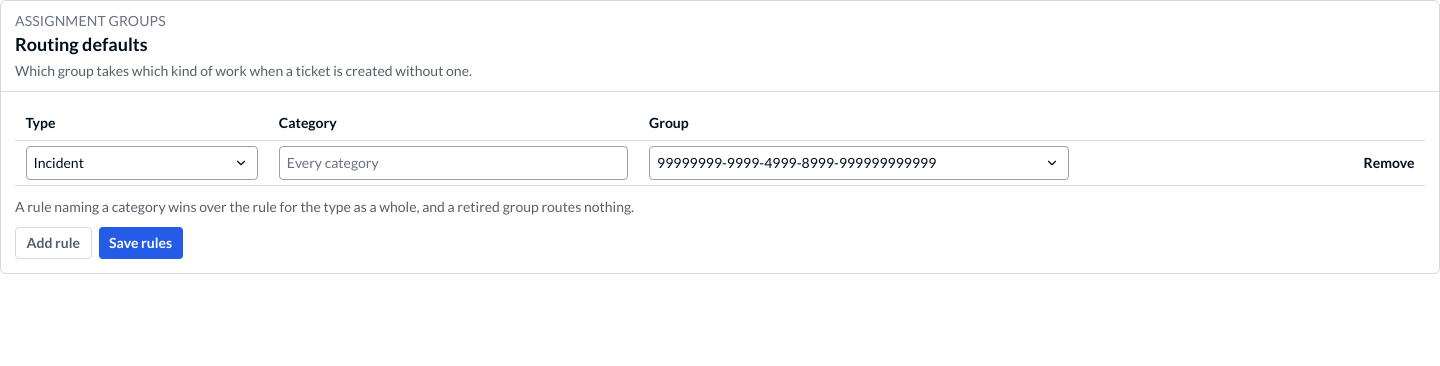
Test: RoutingRulesPanel › refuses two rules covering the same type and category before the API is asked
Check: the field named "Category of rule 1" is shown, box top-left (279, 146), bottom-right (628, 180)
Click the button "Add rule".
click(53, 243)  # box top-left (15, 227), bottom-right (92, 259)
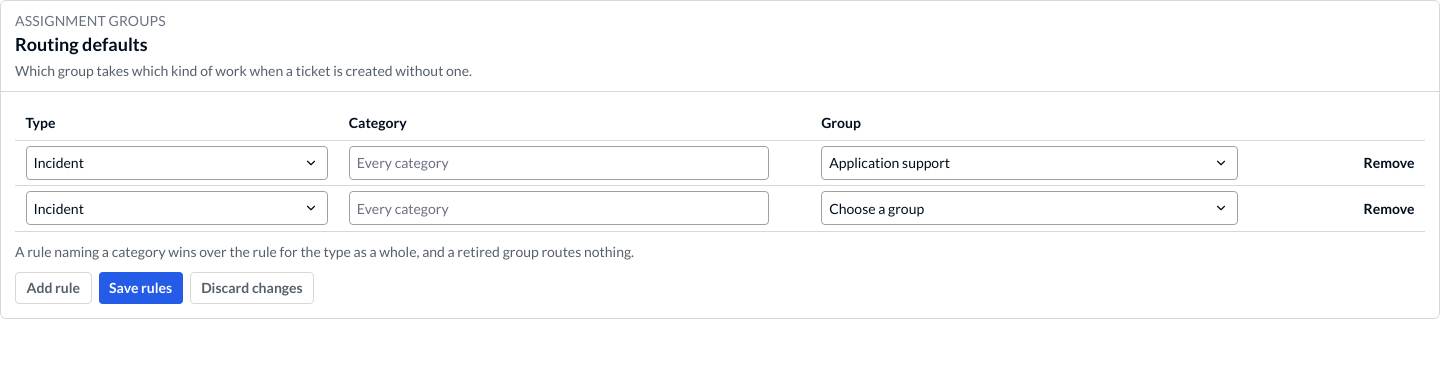
Select "Application support" in the dropdown named "Group of rule 2" at {"x": 1030, "y": 208}, box top-left (821, 191), bottom-right (1238, 225)
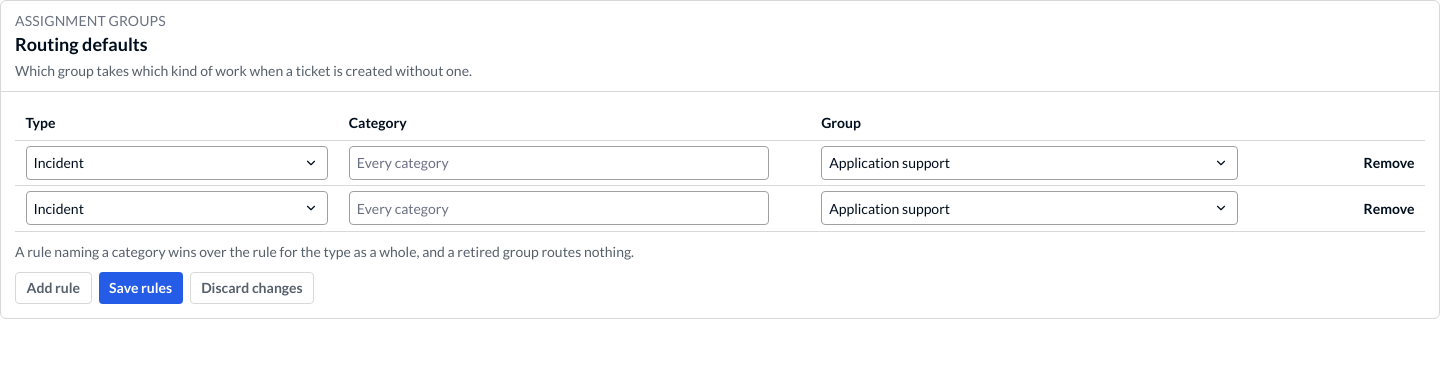
Click the button "Save rules".
click(141, 288)  # box top-left (99, 272), bottom-right (183, 304)
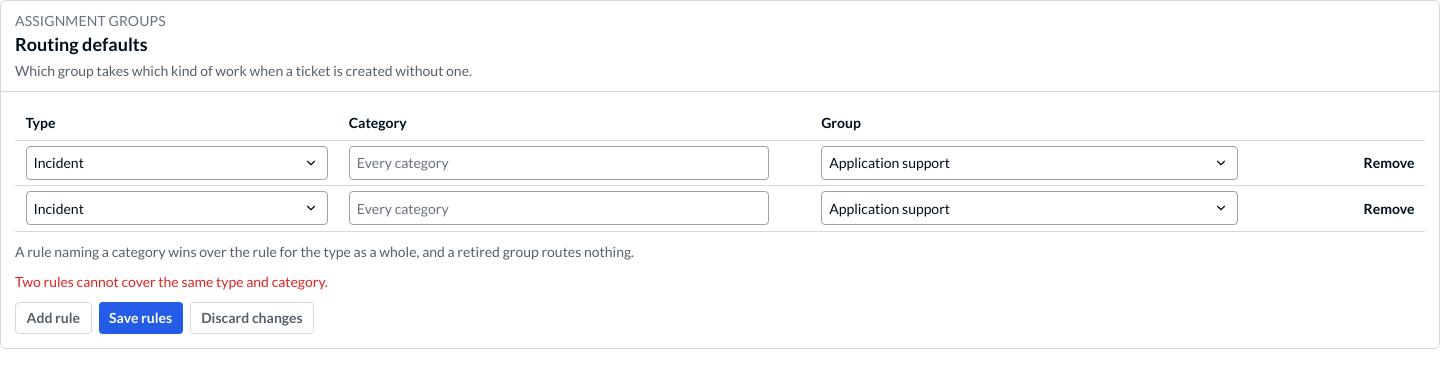
Check: the list item "Two rules cannot cover the same type and category." is shown, box top-left (15, 273), bottom-right (328, 290)
